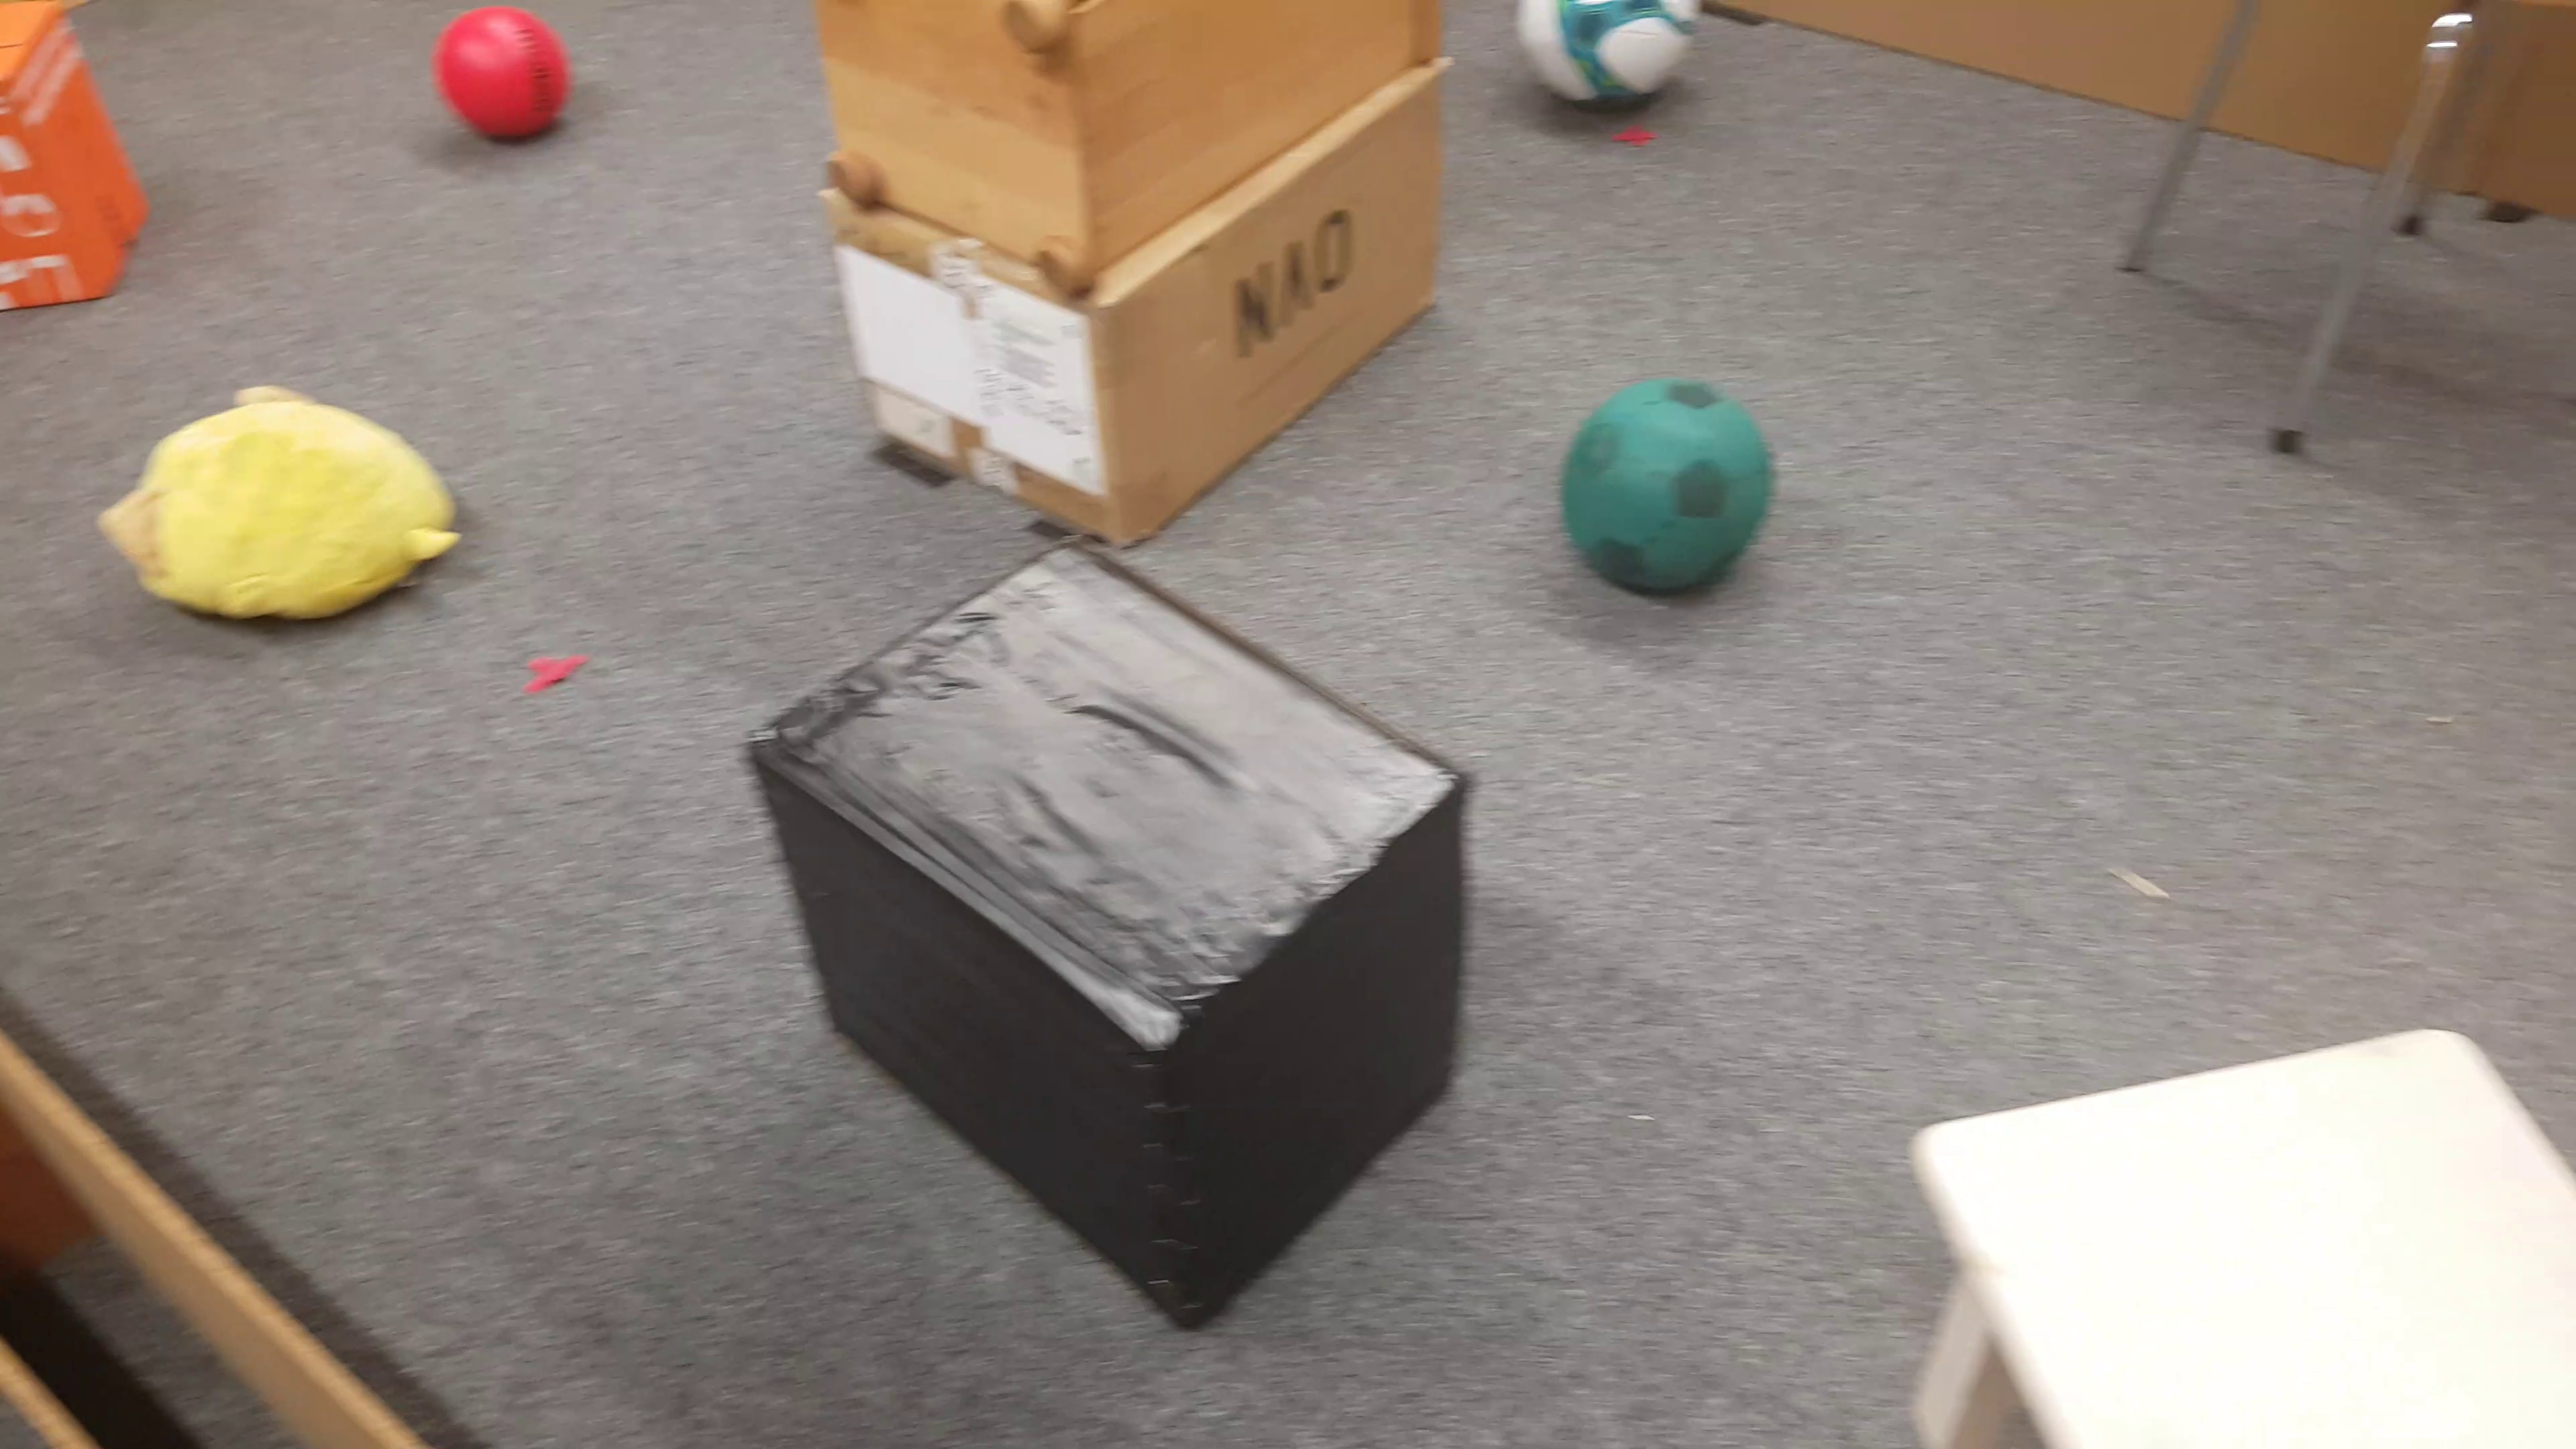grasp: (97, 380, 456, 626)
kick: (1562, 380, 1775, 596), (433, 5, 573, 147), (1514, 2, 1700, 108)
push: (748, 550, 1468, 1336), (2, 0, 156, 318)
